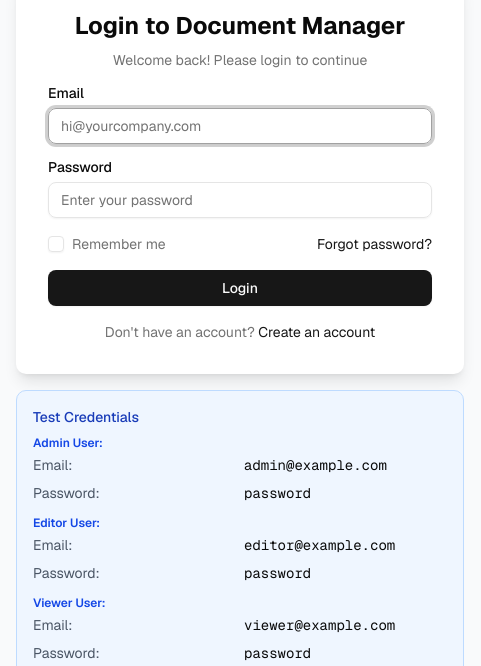
Test: LoginPage › shows error state for too short password
Fill in form with too short password
Type "test@example.com" into the field labelled "Email" at (240, 126), box left=48, top=108, right=432, bottom=144
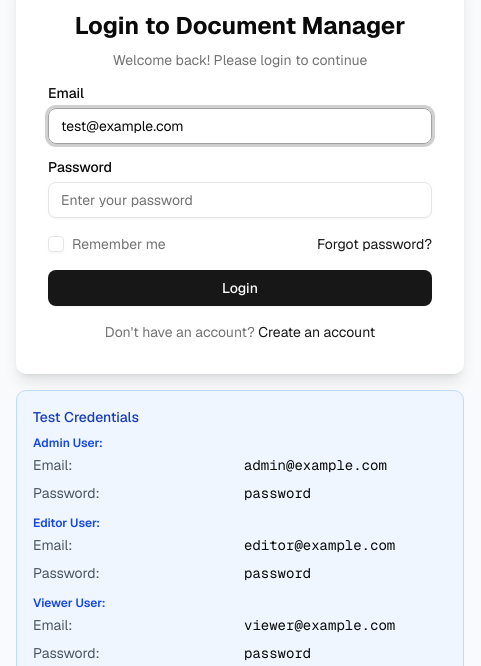
Type "pwd" into the password field labelled "Password" at (240, 200), box left=48, top=182, right=432, bottom=218
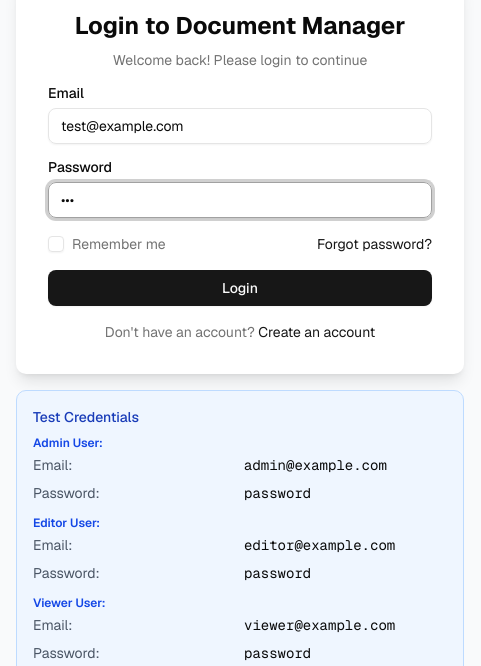
Submit the form
Click the button "Login" at (240, 288), box left=48, top=270, right=432, bottom=306
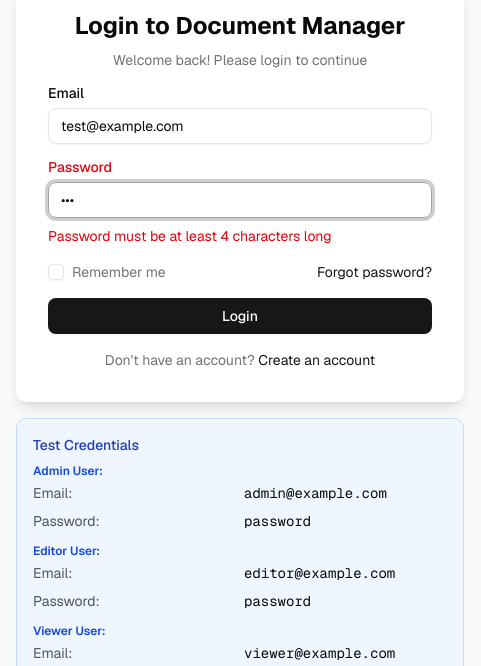
Result: the text "Password must be at least 4 characters long" is shown at left=48, top=227, right=332, bottom=245
